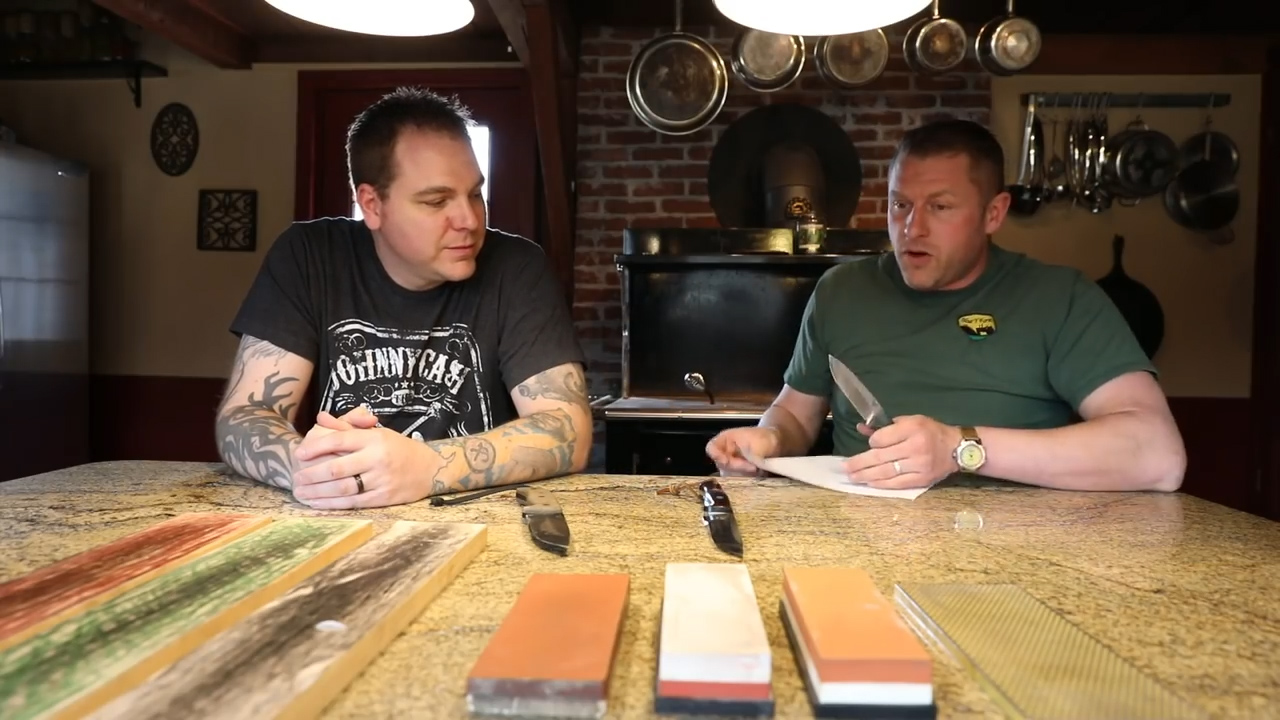knife: (812, 334, 943, 491)
